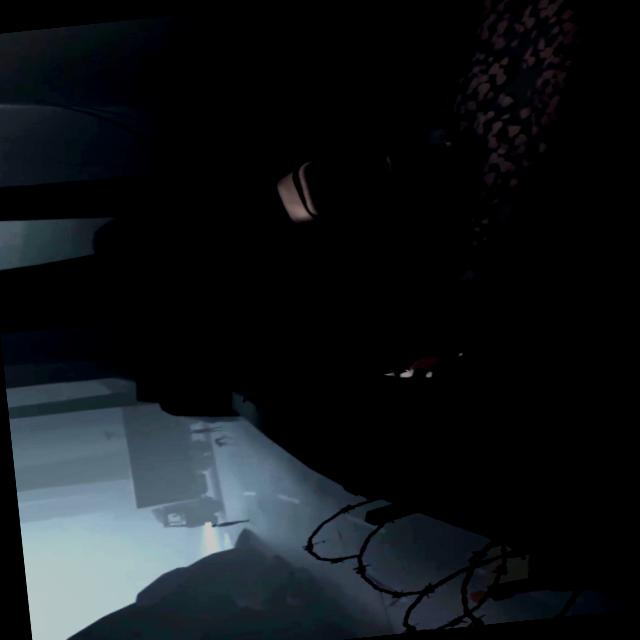boy: (389, 346, 472, 380)
human: (188, 424, 222, 434)
zombie: (210, 517, 248, 527)
